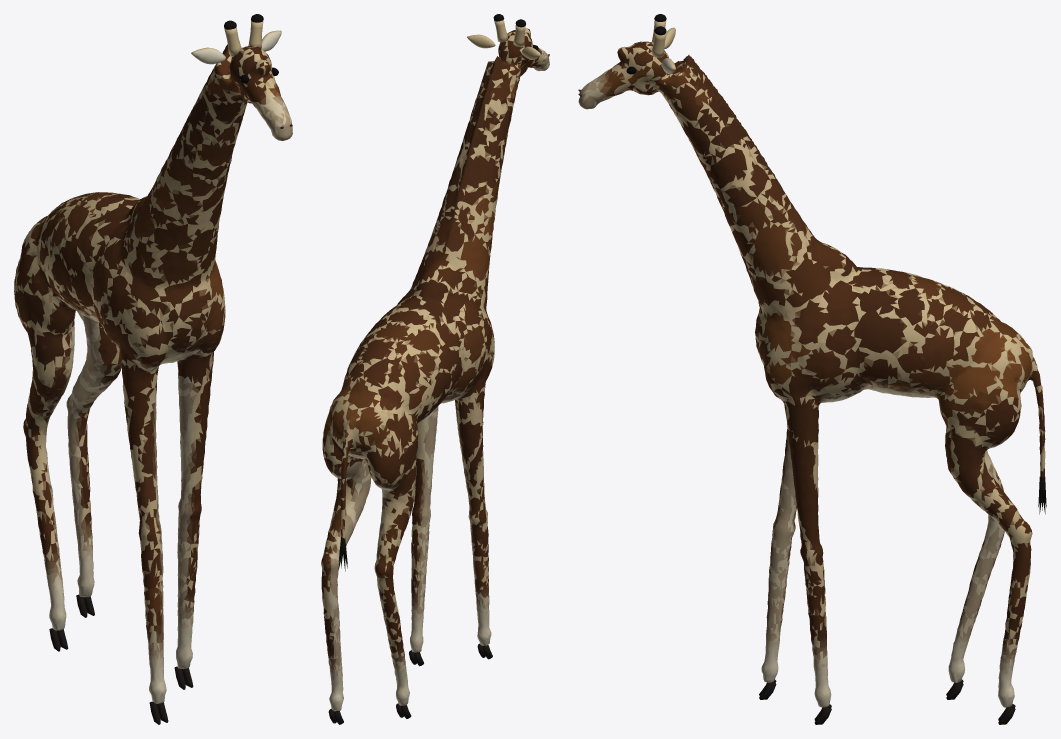
File: MaasaiGiraffe.fbx
3 views of the same model, side by side, from view 1: azimuth 30°, elevation 25°; view 2: azimuth 150°, elevation 25°; view 3: azimuth 270°, elevation 25° (orthographic). The views are drawn at different scales.
Visible parts, largest first — view 1: MaasaiGiraffe; view 2: MaasaiGiraffe; view 3: MaasaiGiraffe.
Part boxes in pixels (box(x1,y1,x2,y2)): MaasaiGiraffe: box(14, 14, 292, 724); MaasaiGiraffe: box(321, 14, 549, 724); MaasaiGiraffe: box(578, 14, 1046, 724).
Bounding box in the file's own units: 0.3382 × 2.2 × 1.35.
